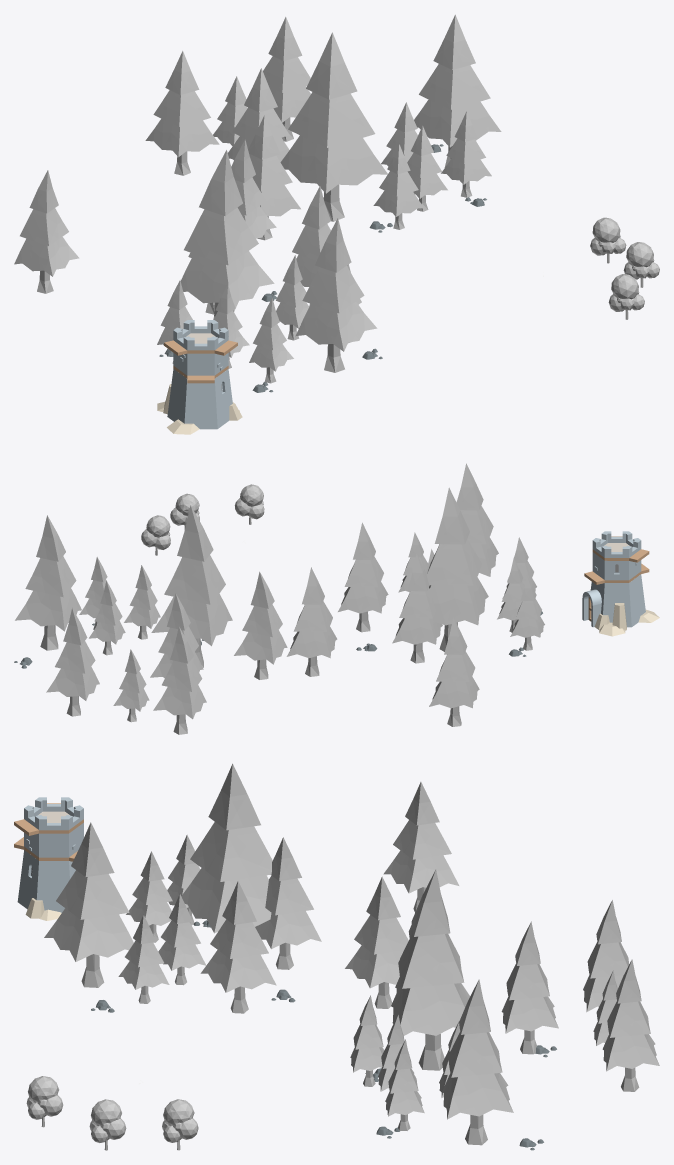
The model's file is nature.gltf.
3 renders of one model, top to bottom at view 1: azimuth 30°, elevation 25°; view 2: azimuth 150°, elevation 25°; view 3: azimuth 270°, elevation 25°, orthographic. The views are drawn at different scales.
Parts seen in each view (by area): view 1: tree-spruce.004, tree-spruce.015, tower, tree-spruce.012, tree-spruce.001, tree-spruce.005, tree-spruce.019, tree-spruce.003, tree-spruce.008, tree-spruce.007, tree-spruce.014, tree-spruce (+12 smaller); view 2: tower, tree-spruce.015, tree-spruce.004, tree-spruce.001, tree-spruce.005, tree-spruce.008, tree-spruce.003, tree-spruce.019, tree-spruce.014, tree-spruce.016, tree-spruce.018, tree-spruce.012 (+12 smaller); view 3: tree-spruce.004, tree-spruce.015, tree-spruce.012, tower, tree-spruce.001, tree-spruce.014, tree-spruce.019, tree-spruce.016, tree-spruce.018, tree-spruce.003, tree-spruce.007, tree-spruce.005 (+12 smaller).
Part boxes in pixels (x1,y1,x2,y2): tree-spruce.004: [280, 32, 387, 221]; tree-spruce.015: [180, 150, 274, 319]; tower: [157, 320, 242, 434]; tree-spruce.012: [295, 218, 377, 372]; tree-spruce.001: [414, 14, 501, 167]; tree-spruce.005: [145, 50, 219, 175]; tree-spruce.019: [14, 170, 79, 293]; tree-spruce.003: [263, 17, 310, 141]; tree-spruce.008: [248, 115, 300, 240]; tree-spruce.007: [228, 68, 289, 161]; tree-spruce.014: [292, 186, 330, 306]; tree-spruce: [441, 111, 491, 197]; tower: [582, 531, 659, 636]; tree-spruce.015: [426, 487, 488, 651]; tree-spruce.004: [151, 505, 232, 667]; tree-spruce.001: [15, 515, 81, 650]; tree-spruce.005: [153, 626, 206, 734]; tree-spruce.008: [234, 571, 287, 679]; tree-spruce.003: [46, 608, 99, 716]; tree-spruce.019: [429, 617, 479, 726]; tree-spruce.014: [338, 522, 388, 632]; tree-spruce.016: [286, 567, 337, 676]; tree-spruce.018: [392, 554, 442, 663]; tree-spruce.012: [456, 463, 498, 576]; tree-spruce.004: [391, 869, 469, 1070]; tree-spruce.015: [181, 763, 272, 933]; tree-spruce.012: [44, 822, 133, 987]; tower: [14, 797, 83, 920]; tree-spruce.001: [442, 979, 513, 1145]; tree-spruce.014: [200, 881, 276, 1013]; tree-spruce.019: [383, 782, 459, 912]; tree-spruce.016: [345, 876, 408, 1008]; tree-spruce.018: [255, 837, 321, 969]; tree-spruce.003: [602, 959, 659, 1091]; tree-spruce.007: [501, 921, 558, 1054]; tree-spruce.005: [583, 900, 629, 1011].
Bounding box in the file's own units: 42.54 × 14.37 × 42.21.
